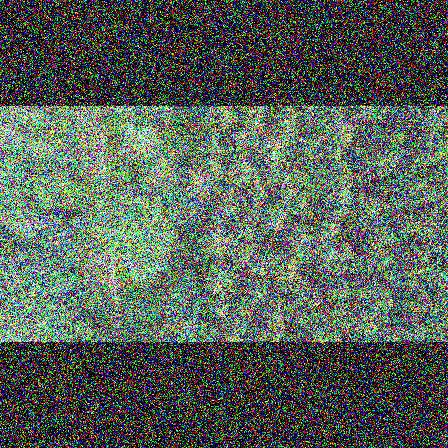Dead: (5, 203, 52, 220), (381, 199, 414, 214)
Sick: (237, 192, 250, 207)
